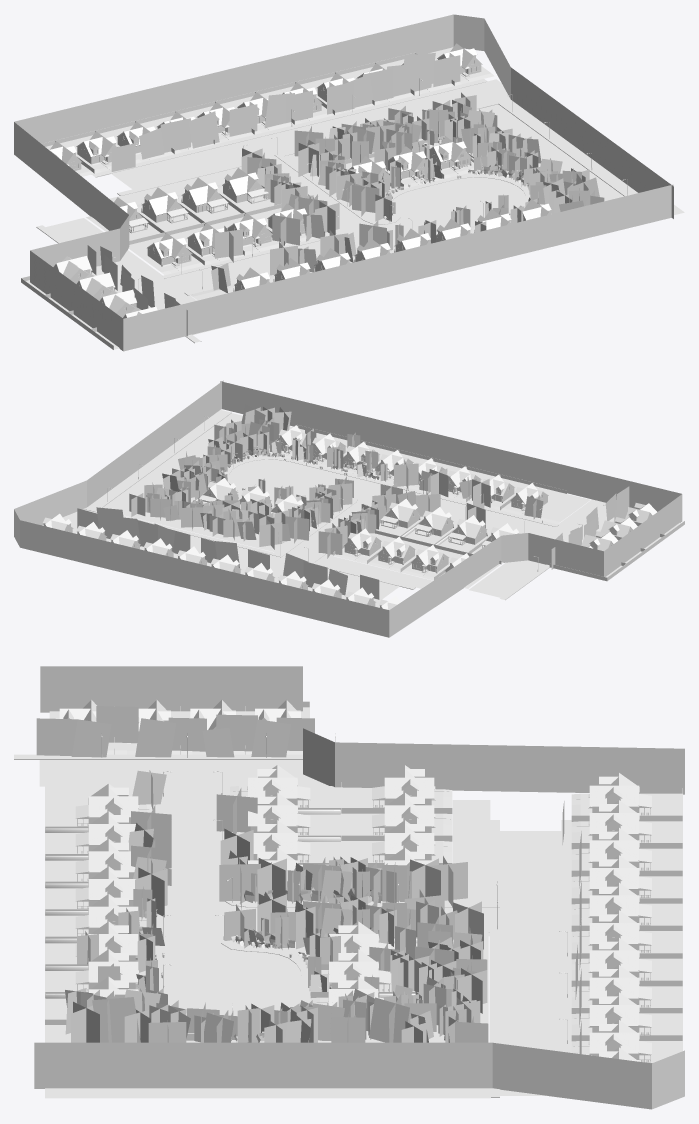
File: house.glb
3 views of the same model, one above another, from view 1: azimuth 30°, elevation 25°; view 2: azimuth 150°, elevation 25°; view 3: azimuth 270°, elevation 25° (orthographic). The views are drawn at different scales.
Visible parts, largest first — view 1: Background, AsphaltDamaged_004, AsphaltDamaged, AsphaltDamaged_001, AsphaltDamaged_005, AsphaltDamaged_002, Sidewalk_002, Sidewalk, AsphaltDamaged_003, House.007, Sidewalk_001, House.008 (+37 smaller); view 2: Background, AsphaltDamaged_001, AsphaltDamaged, AsphaltDamaged_005, AsphaltDamaged_002, grass_soil_003, AsphaltDamaged_004, grass_soil_011, grass_soil_002, AsphaltDamaged_003, Sidewalk, House.004 (+33 smaller); view 3: Background, AsphaltDamaged_004, AsphaltDamaged, AsphaltDamaged_002, AsphaltDamaged_005, AsphaltDamaged_001, grass_soil_002, Sidewalk_002, grass_soil_011, House.014, House.012, House.006 (+85 smaller).
Part boxes in pixels (<box>): Background: <box>14,14,673,351</box>; AsphaltDamaged_004: <box>111,79,509,189</box>; AsphaltDamaged: <box>385,177,525,236</box>; AsphaltDamaged_001: <box>476,100,684,214</box>; AsphaltDamaged_005: <box>45,218,230,334</box>; AsphaltDamaged_002: <box>165,225,404,293</box>; Sidewalk_002: <box>91,79,487,177</box>; Sidewalk: <box>278,156,530,234</box>; AsphaltDamaged_003: <box>265,156,383,234</box>; House.007: <box>142,187,188,223</box>; Sidewalk_001: <box>117,163,336,278</box>; House.008: <box>181,177,228,213</box>; Background: <box>14,380,682,637</box>; AsphaltDamaged_001: <box>88,409,242,514</box>; AsphaltDamaged: <box>229,459,368,500</box>; AsphaltDamaged_005: <box>469,499,606,597</box>; AsphaltDamaged_002: <box>355,481,556,536</box>; grass_soil_003: <box>123,426,326,553</box>; AsphaltDamaged_004: <box>63,509,399,599</box>; grass_soil_011: <box>500,486,590,524</box>; grass_soil_002: <box>315,554,433,588</box>; AsphaltDamaged_003: <box>275,494,372,561</box>; Sidewalk: <box>224,457,371,554</box>; House.004: <box>448,515,487,545</box>; Background: <box>34,666,684,1109</box>; AsphaltDamaged_004: <box>497,831,561,1095</box>; AsphaltDamaged: <box>164,936,301,1016</box>; AsphaltDamaged_002: <box>165,784,220,937</box>; AsphaltDamaged_005: <box>39,760,328,786</box>; AsphaltDamaged_001: <box>45,1088,490,1098</box>; grass_soil_002: <box>236,800,490,902</box>; Sidewalk_002: <box>561,820,571,1052</box>; grass_soil_011: <box>45,785,156,826</box>; House.014: <box>588,882,651,925</box>; House.012: <box>588,828,651,870</box>; House.006: <box>372,765,435,807</box>.
Size of the model in its own units: 298 by 21.68 by 211.
146 materials, 75 textured.
